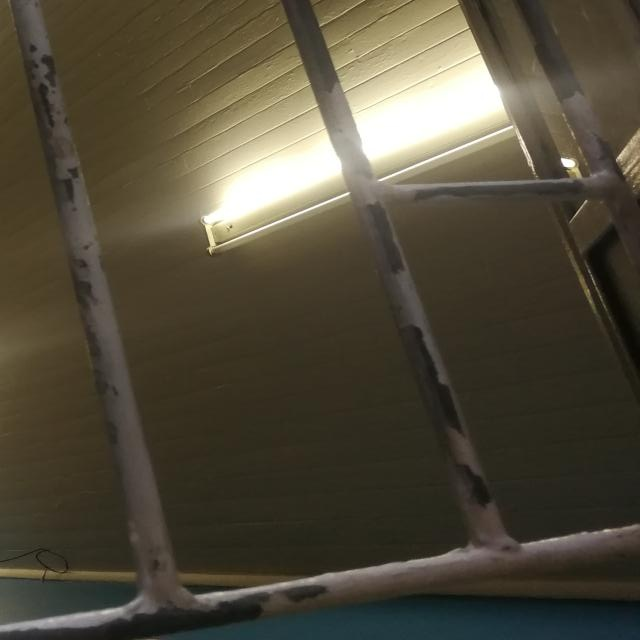fluorescent tube: (160, 31, 552, 284)
